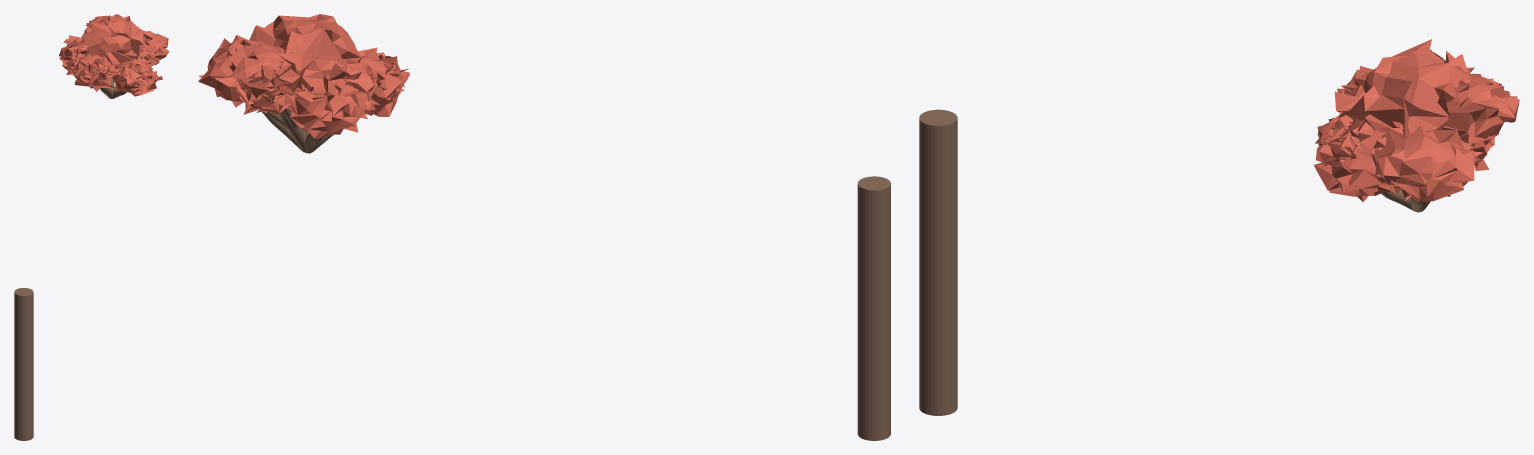
File: maple_mature.glb
The picture shows the model from 3 angles, left to right: view 1: azimuth 30°, elevation 25°; view 2: azimuth 150°, elevation 25°; view 3: azimuth 270°, elevation 25°; orthographic projection. The views are drawn at different scales.
Visible parts, largest first — view 1: MapleMature_Trunk.002, MapleMature_TopLeaves.002, MapleMature_LeafCluster4.002, MapleMature_LeafCluster5.002, MapleMature_SubLeafCluster3_3, MapleMature_LeafCluster1.002, MapleMature_SubLeafCluster5_2, MapleMature_SubLeafCluster4_2, MapleMature_SubLeafCluster5_4, MapleMature_SubLeafCluster1_3; view 2: MapleMature_Trunk.002, MapleMature_TopLeaves.002, MapleMature_LeafCluster2.002, MapleMature_LeafCluster3.002, MapleMature_LeafCluster4.002, MapleMature_LeafCluster1.002, MapleMature_SubLeafCluster3_3; view 3: MapleMature_Trunk.002, MapleMature_TopLeaves.002, MapleMature_LeafCluster1.002, MapleMature_LeafCluster2.002, MapleMature_LeafCluster5.002, MapleMature_SubLeafCluster5_4, MapleMature_SubLeafCluster5_2.
Part boxes in pixels (left/top/right/bottom): MapleMature_Trunk.002: left=14, top=288, right=33, bottom=440; MapleMature_TopLeaves.002: left=80, top=15, right=145, bottom=68; MapleMature_LeafCluster4.002: left=71, top=53, right=119, bottom=91; MapleMature_LeafCluster5.002: left=112, top=67, right=162, bottom=96; MapleMature_SubLeafCluster3_3: left=59, top=35, right=87, bottom=62; MapleMature_LeafCluster1.002: left=143, top=30, right=169, bottom=64; MapleMature_SubLeafCluster5_2: left=118, top=53, right=149, bottom=81; MapleMature_SubLeafCluster4_2: left=78, top=55, right=113, bottom=82; MapleMature_SubLeafCluster5_4: left=123, top=59, right=154, bottom=85; MapleMature_SubLeafCluster1_3: left=139, top=38, right=160, bottom=60; MapleMature_Trunk.002: left=857, top=176, right=890, bottom=440; MapleMature_TopLeaves.002: left=249, top=14, right=360, bottom=108; MapleMature_LeafCluster2.002: left=229, top=39, right=304, bottom=107; MapleMature_LeafCluster3.002: left=287, top=88, right=367, bottom=139; MapleMature_LeafCluster4.002: left=360, top=49, right=410, bottom=116; MapleMature_LeafCluster1.002: left=198, top=35, right=247, bottom=107; MapleMature_SubLeafCluster3_3: left=328, top=59, right=379, bottom=107; MapleMature_Trunk.002: left=919, top=109, right=957, bottom=415; MapleMature_TopLeaves.002: left=1346, top=39, right=1470, bottom=135; MapleMature_LeafCluster1.002: left=1375, top=125, right=1476, bottom=202; MapleMature_LeafCluster2.002: left=1442, top=72, right=1514, bottom=150; MapleMature_LeafCluster5.002: left=1314, top=144, right=1401, bottom=202; MapleMature_SubLeafCluster5_4: left=1315, top=111, right=1360, bottom=165; MapleMature_SubLeafCluster5_2: left=1317, top=111, right=1363, bottom=149.
Bounding box in the file's own units: 3.92 × 3.83 × 3.75.
